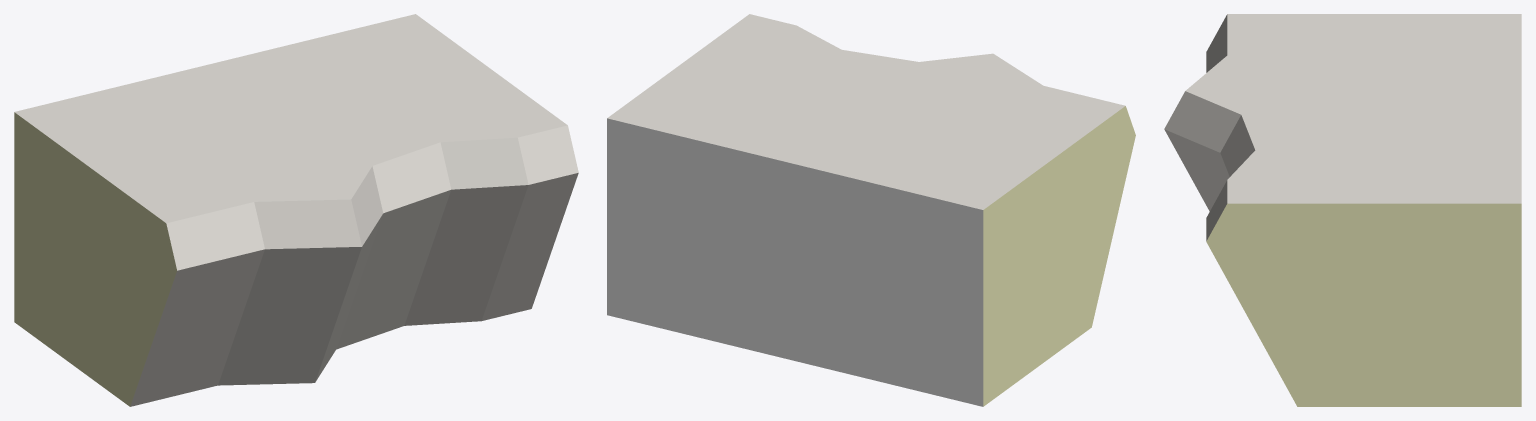
The model's file is Cracked_Straight_2x2_2_Top.glb.
3 views of the same model, side by side, from view 1: azimuth 30°, elevation 25°; view 2: azimuth 150°, elevation 25°; view 3: azimuth 270°, elevation 25° (orthographic). The views are drawn at different scales.
Parts seen in each view (by area): view 1: Cracked_Straight_2x2_2_Top; view 2: Cracked_Straight_2x2_2_Top; view 3: Cracked_Straight_2x2_2_Top.
Boxes of the visible parts, x1,y1,x2,y2 form: Cracked_Straight_2x2_2_Top: (14,14,578,406); Cracked_Straight_2x2_2_Top: (607,14,1135,406); Cracked_Straight_2x2_2_Top: (1164,14,1521,406).
Bounding box in the file's own units: 200 × 100 × 159.
